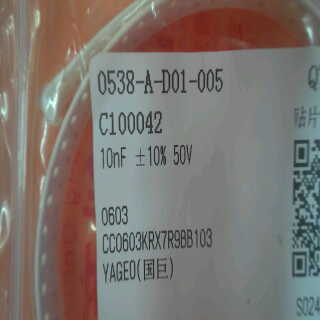10nF: (99, 143, 129, 170)
